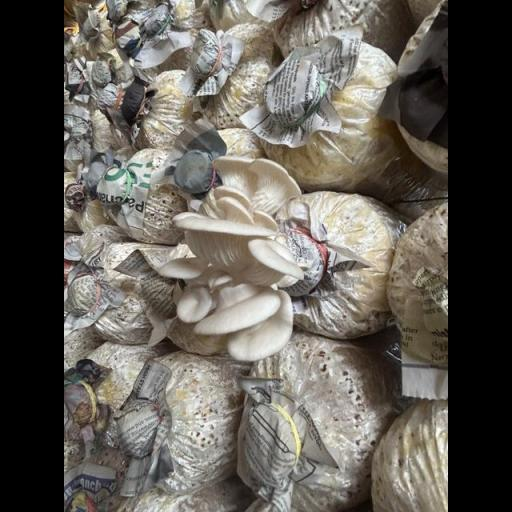White Oyster Mushroom: (156, 153, 313, 367)
